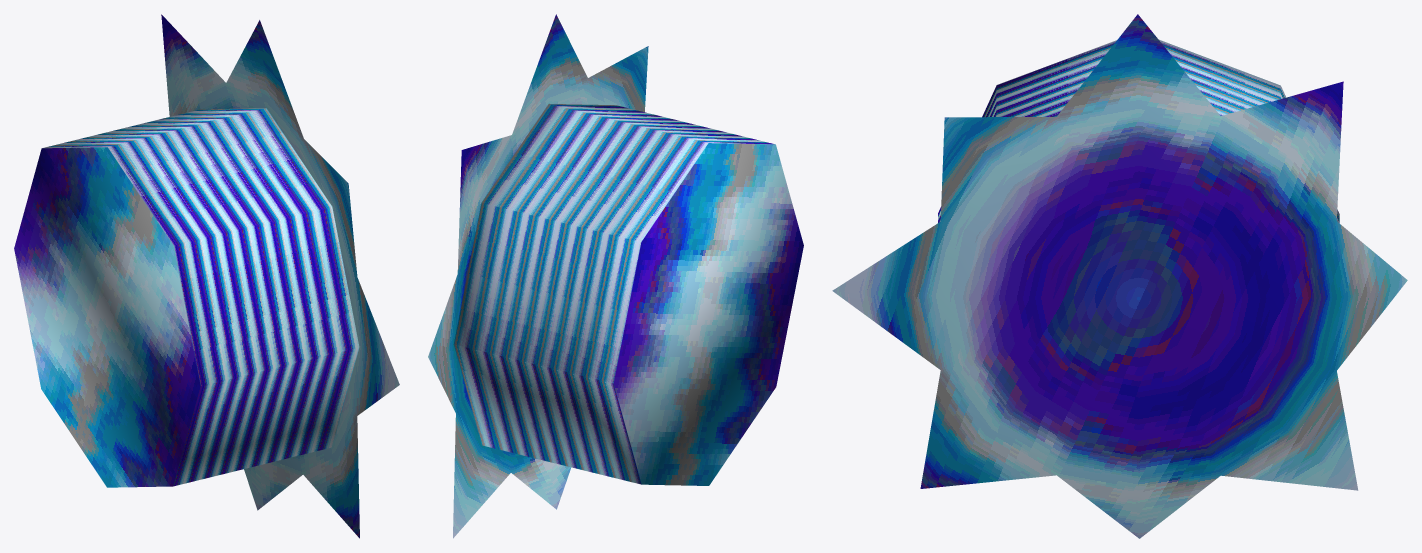
File: Laser.obj
3 views of the same model, side by side, from view 1: azimuth 30°, elevation 25°; view 2: azimuth 150°, elevation 25°; view 3: azimuth 270°, elevation 25° (orthographic). The views are drawn at different scales.
Bounding box in the file's own units: 1 × 2.89 × 2.86.
Materials: 2 (2 with a texture image).
